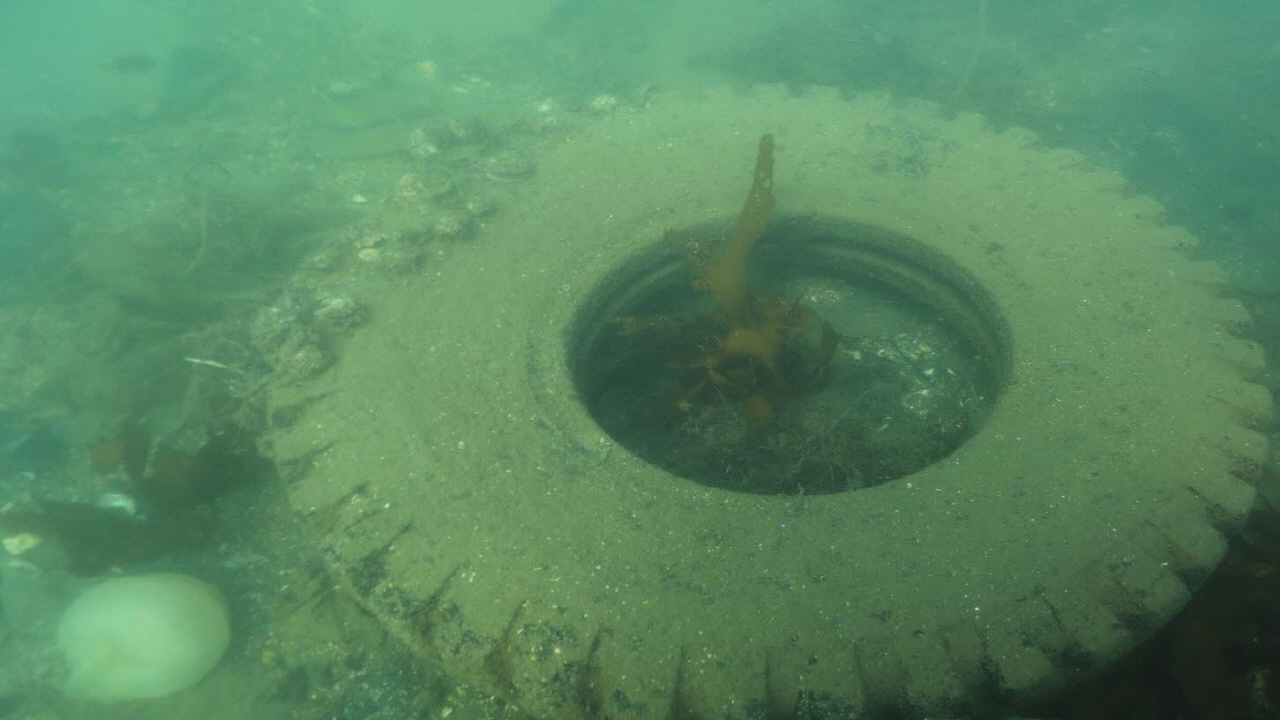tire: (271, 78, 1278, 720)
